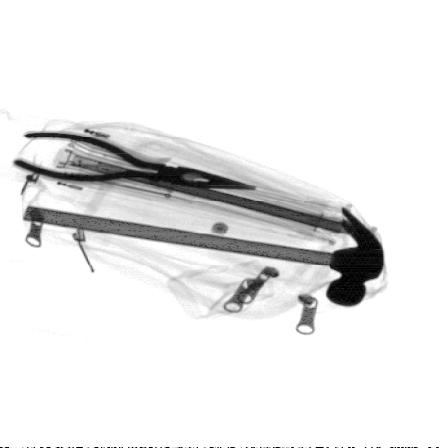Hammer: (22, 208, 386, 307)
Pliers: (12, 130, 257, 189)
